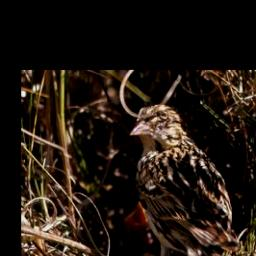Sparrow: (127, 103, 241, 256)
